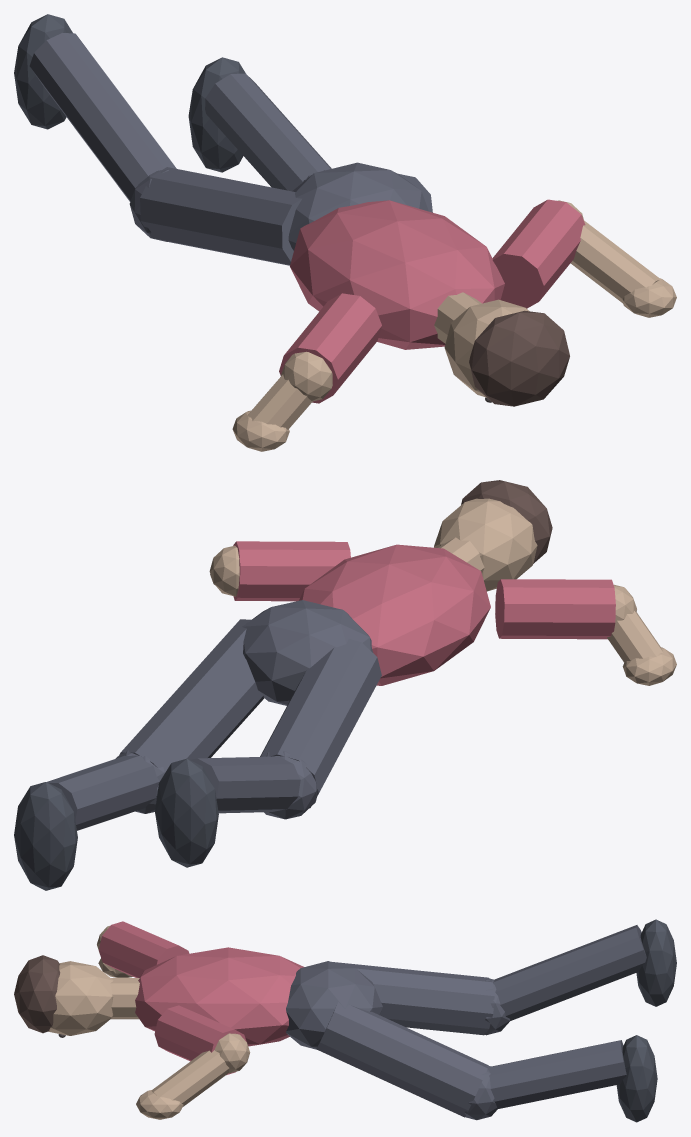
3 views of the same model, one above another, from view 1: azimuth 30°, elevation 25°; view 2: azimuth 150°, elevation 25°; view 3: azimuth 270°, elevation 25° (orthographic). The views are drawn at different scales.
Parts seen in each view (by area): view 1: world; view 2: world; view 3: world.
Part boxes in pixels (x1,y1,x2,y2): world: (14, 14, 676, 451); world: (14, 480, 676, 890); world: (14, 919, 676, 1122).
Bounding box in the file's own units: 1.25 × 0.4905 × 2.06.
